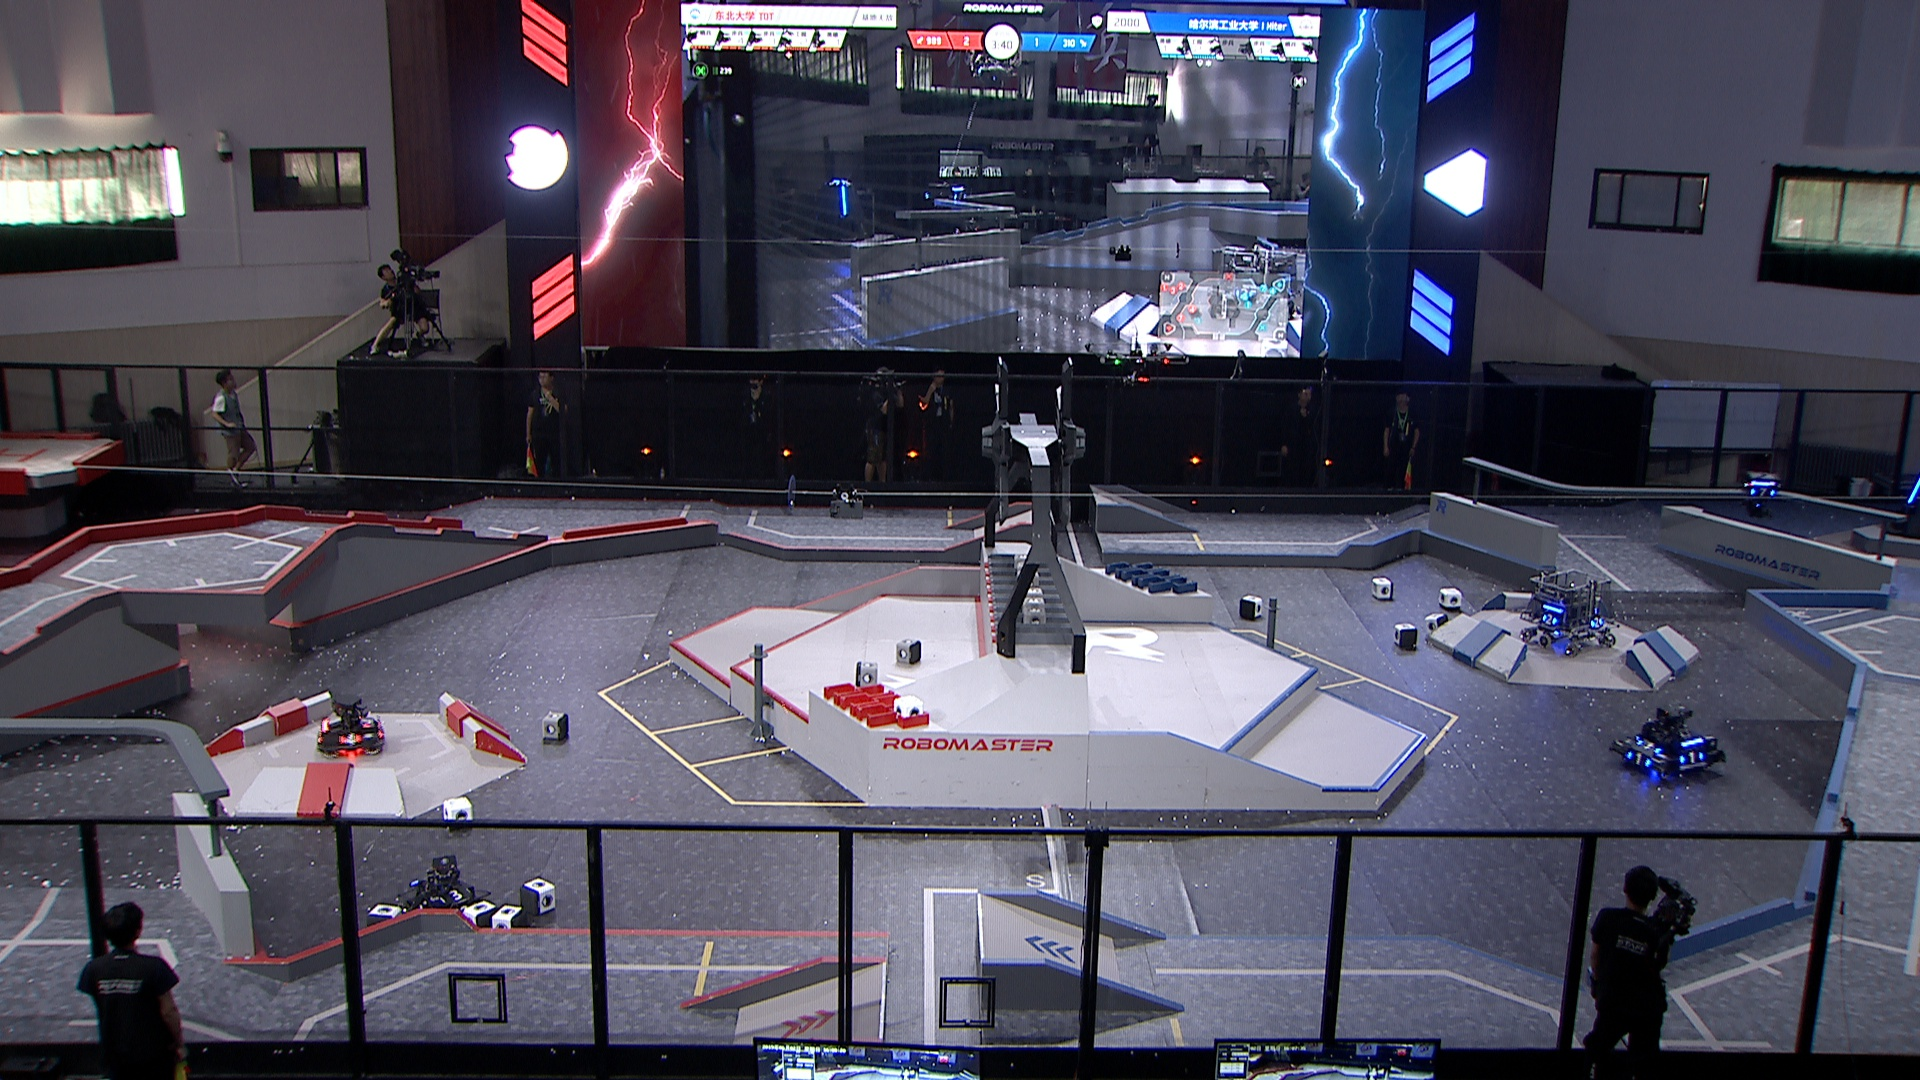armor: (1626, 749, 1651, 770), (439, 887, 469, 903), (1905, 475, 1920, 505), (1680, 749, 1704, 765), (1636, 737, 1662, 752), (340, 732, 361, 746), (1749, 488, 1775, 498), (359, 713, 375, 731), (1542, 612, 1557, 626), (1589, 617, 1604, 629)
base: (1882, 454, 1920, 538)
car: (1518, 564, 1621, 659), (1613, 698, 1722, 785), (405, 855, 484, 922), (309, 694, 384, 757)
ignore: (820, 174, 870, 237), (926, 174, 967, 214)
watcher: (1737, 467, 1789, 520)
